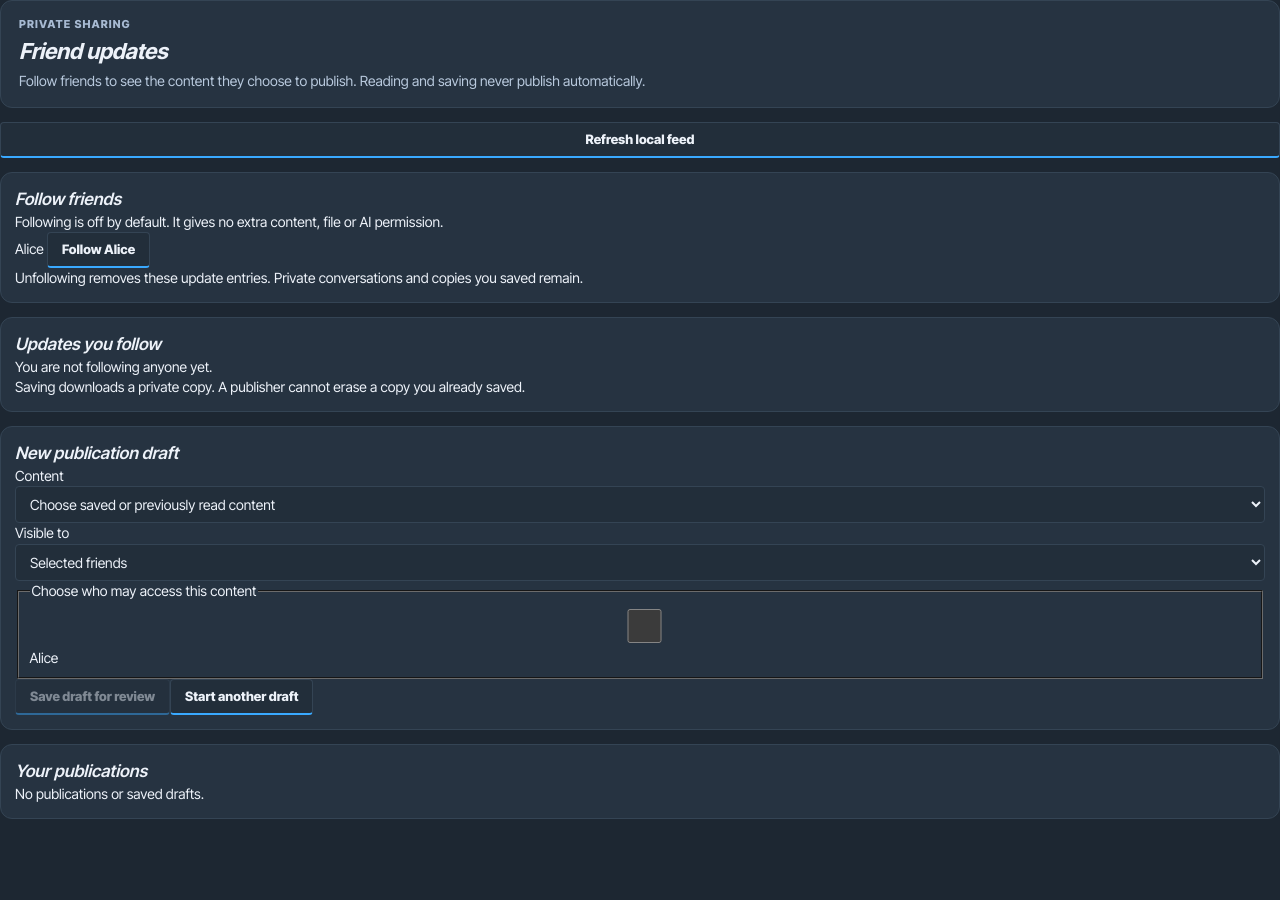
Test case: saves a draft without publishing and requires an explicit future-friend review
The width and height of the screenshot is (1280, 900).
Expected: the button "Follow Alice" is shown, x1=47 y1=232 x2=150 y2=268
Select "Saved article" in the dropdown named "Publication content" at (640, 505), box x1=15 y1=486 x2=1265 y2=523
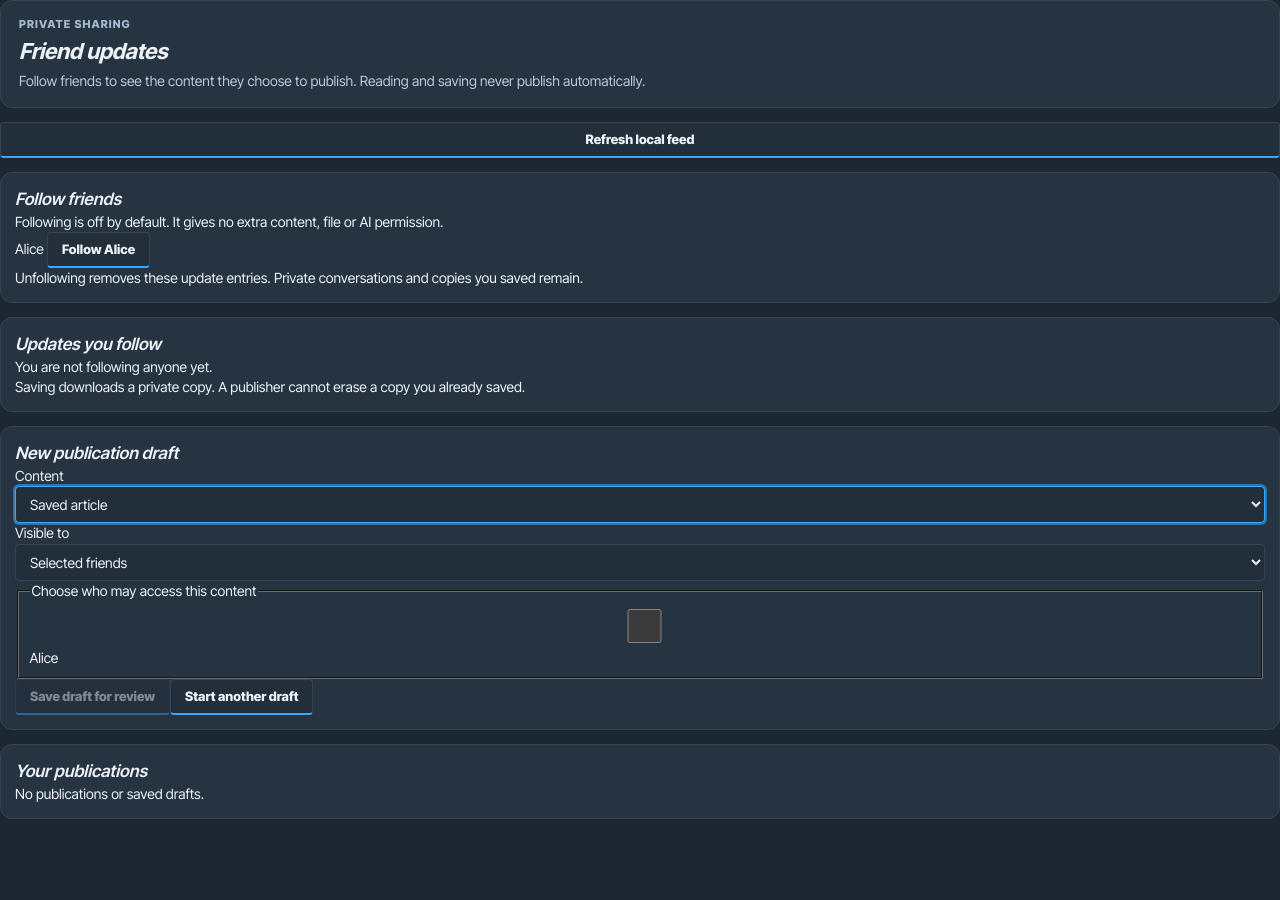
Select "All current and future friends" in the dropdown named "Publication audience" at (640, 562), box x1=15 y1=544 x2=1265 y2=580
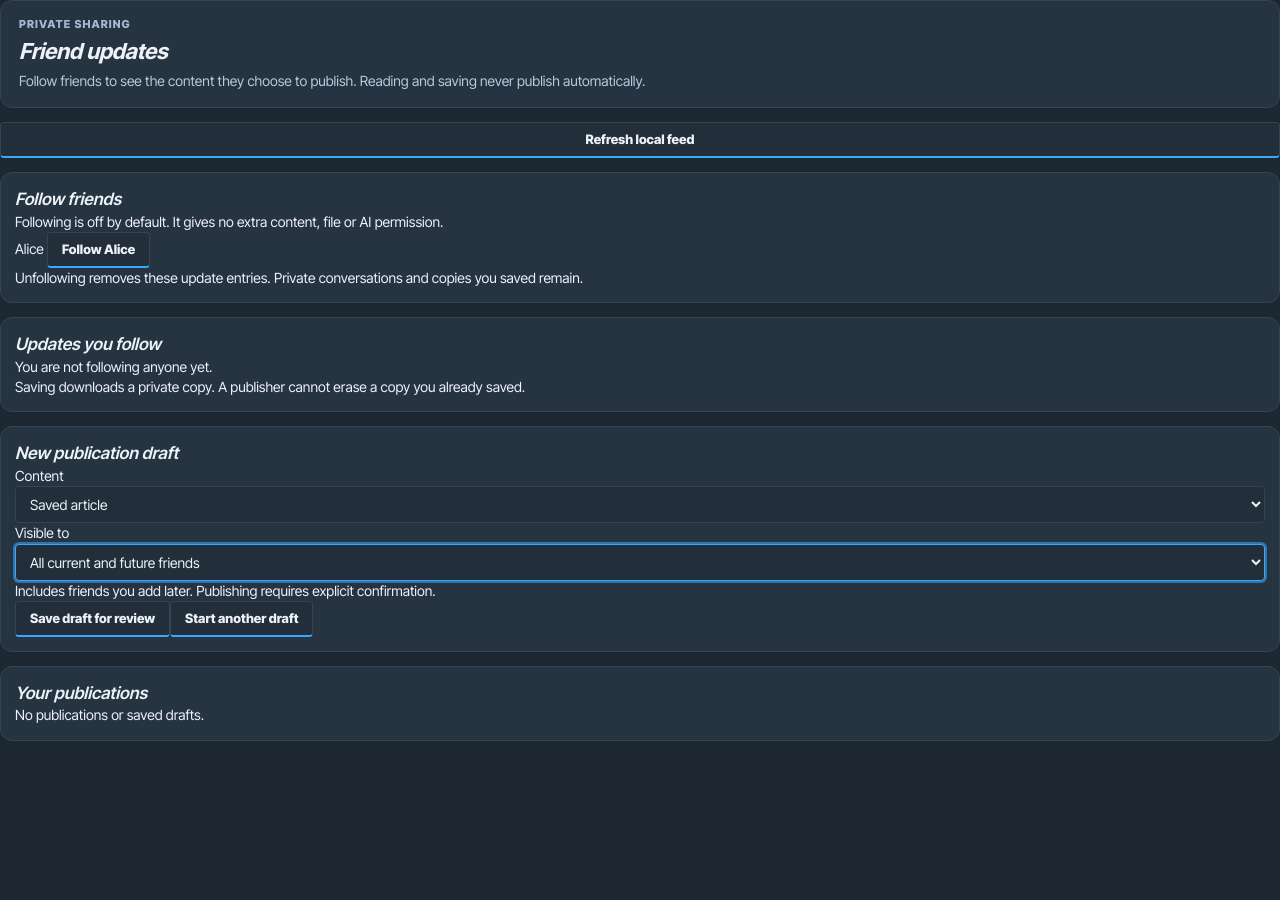
Click the button "Save draft for review" at (93, 619), box x1=15 y1=601 x2=170 y2=637
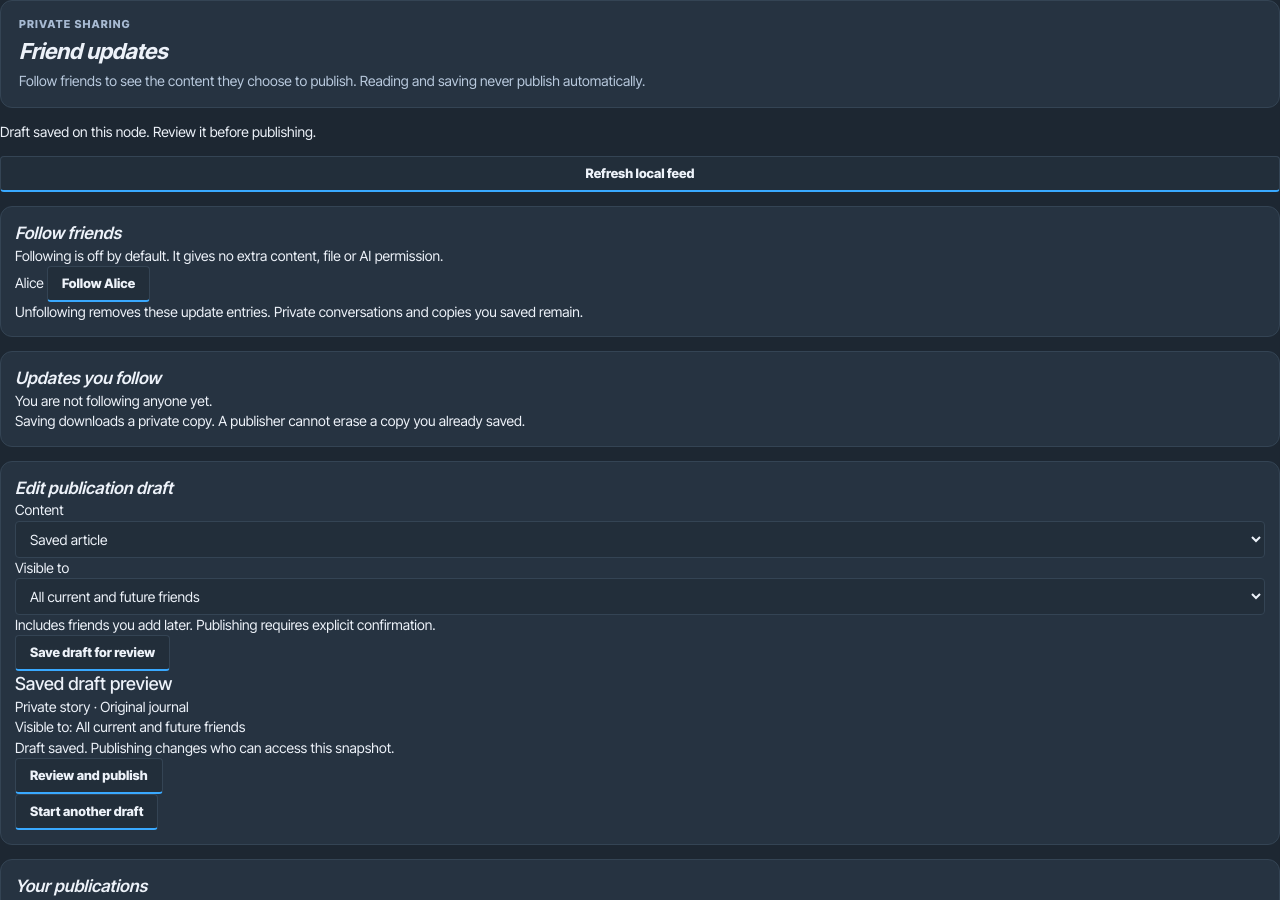
Expected: the heading "Saved draft preview" is shown, x1=15 y1=673 x2=172 y2=694
Click the button "Review and publish" at (89, 776), box x1=15 y1=758 x2=163 y2=794
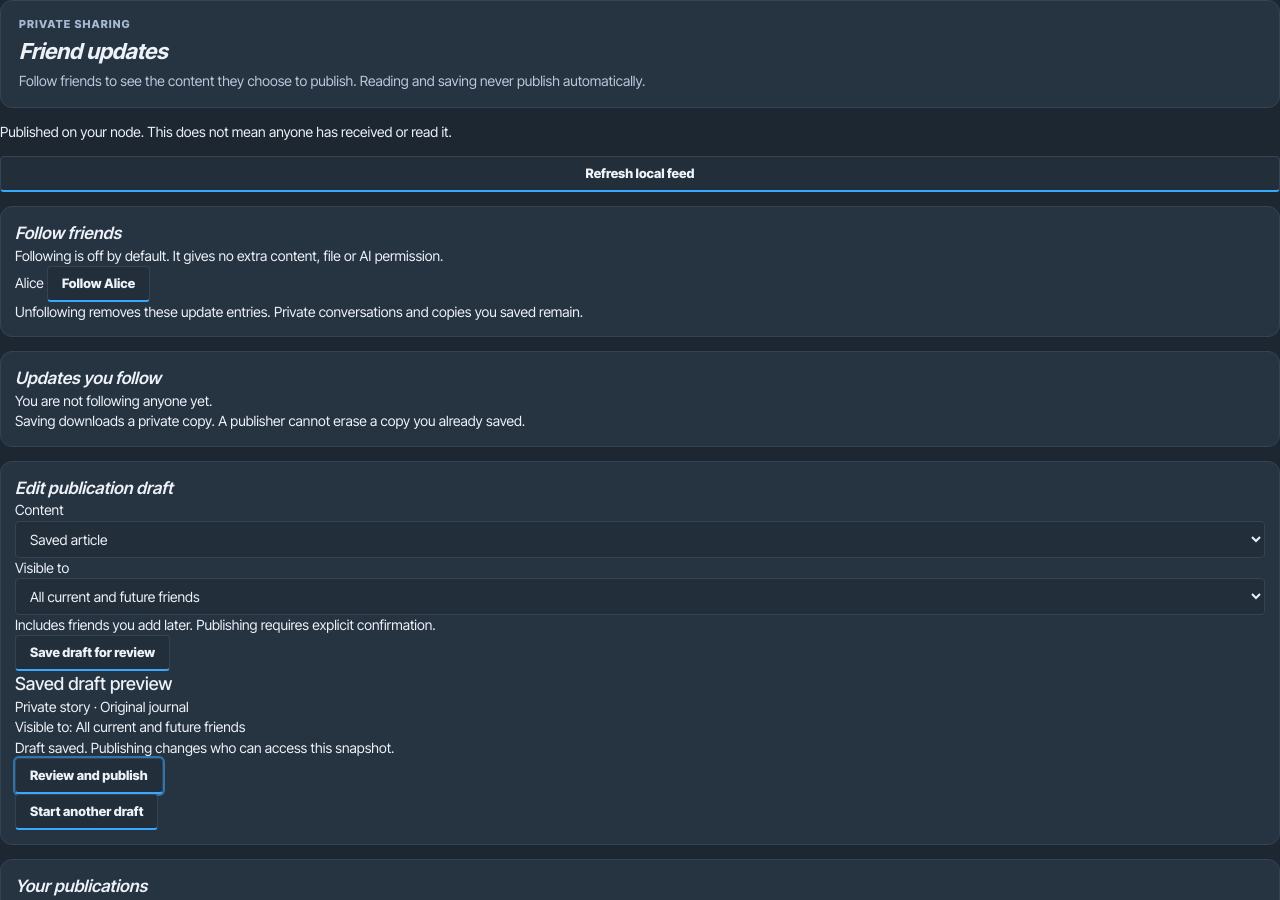
Expected: the message shows "does not mean anyone has received or read it", x1=0 y1=123 x2=452 y2=140
